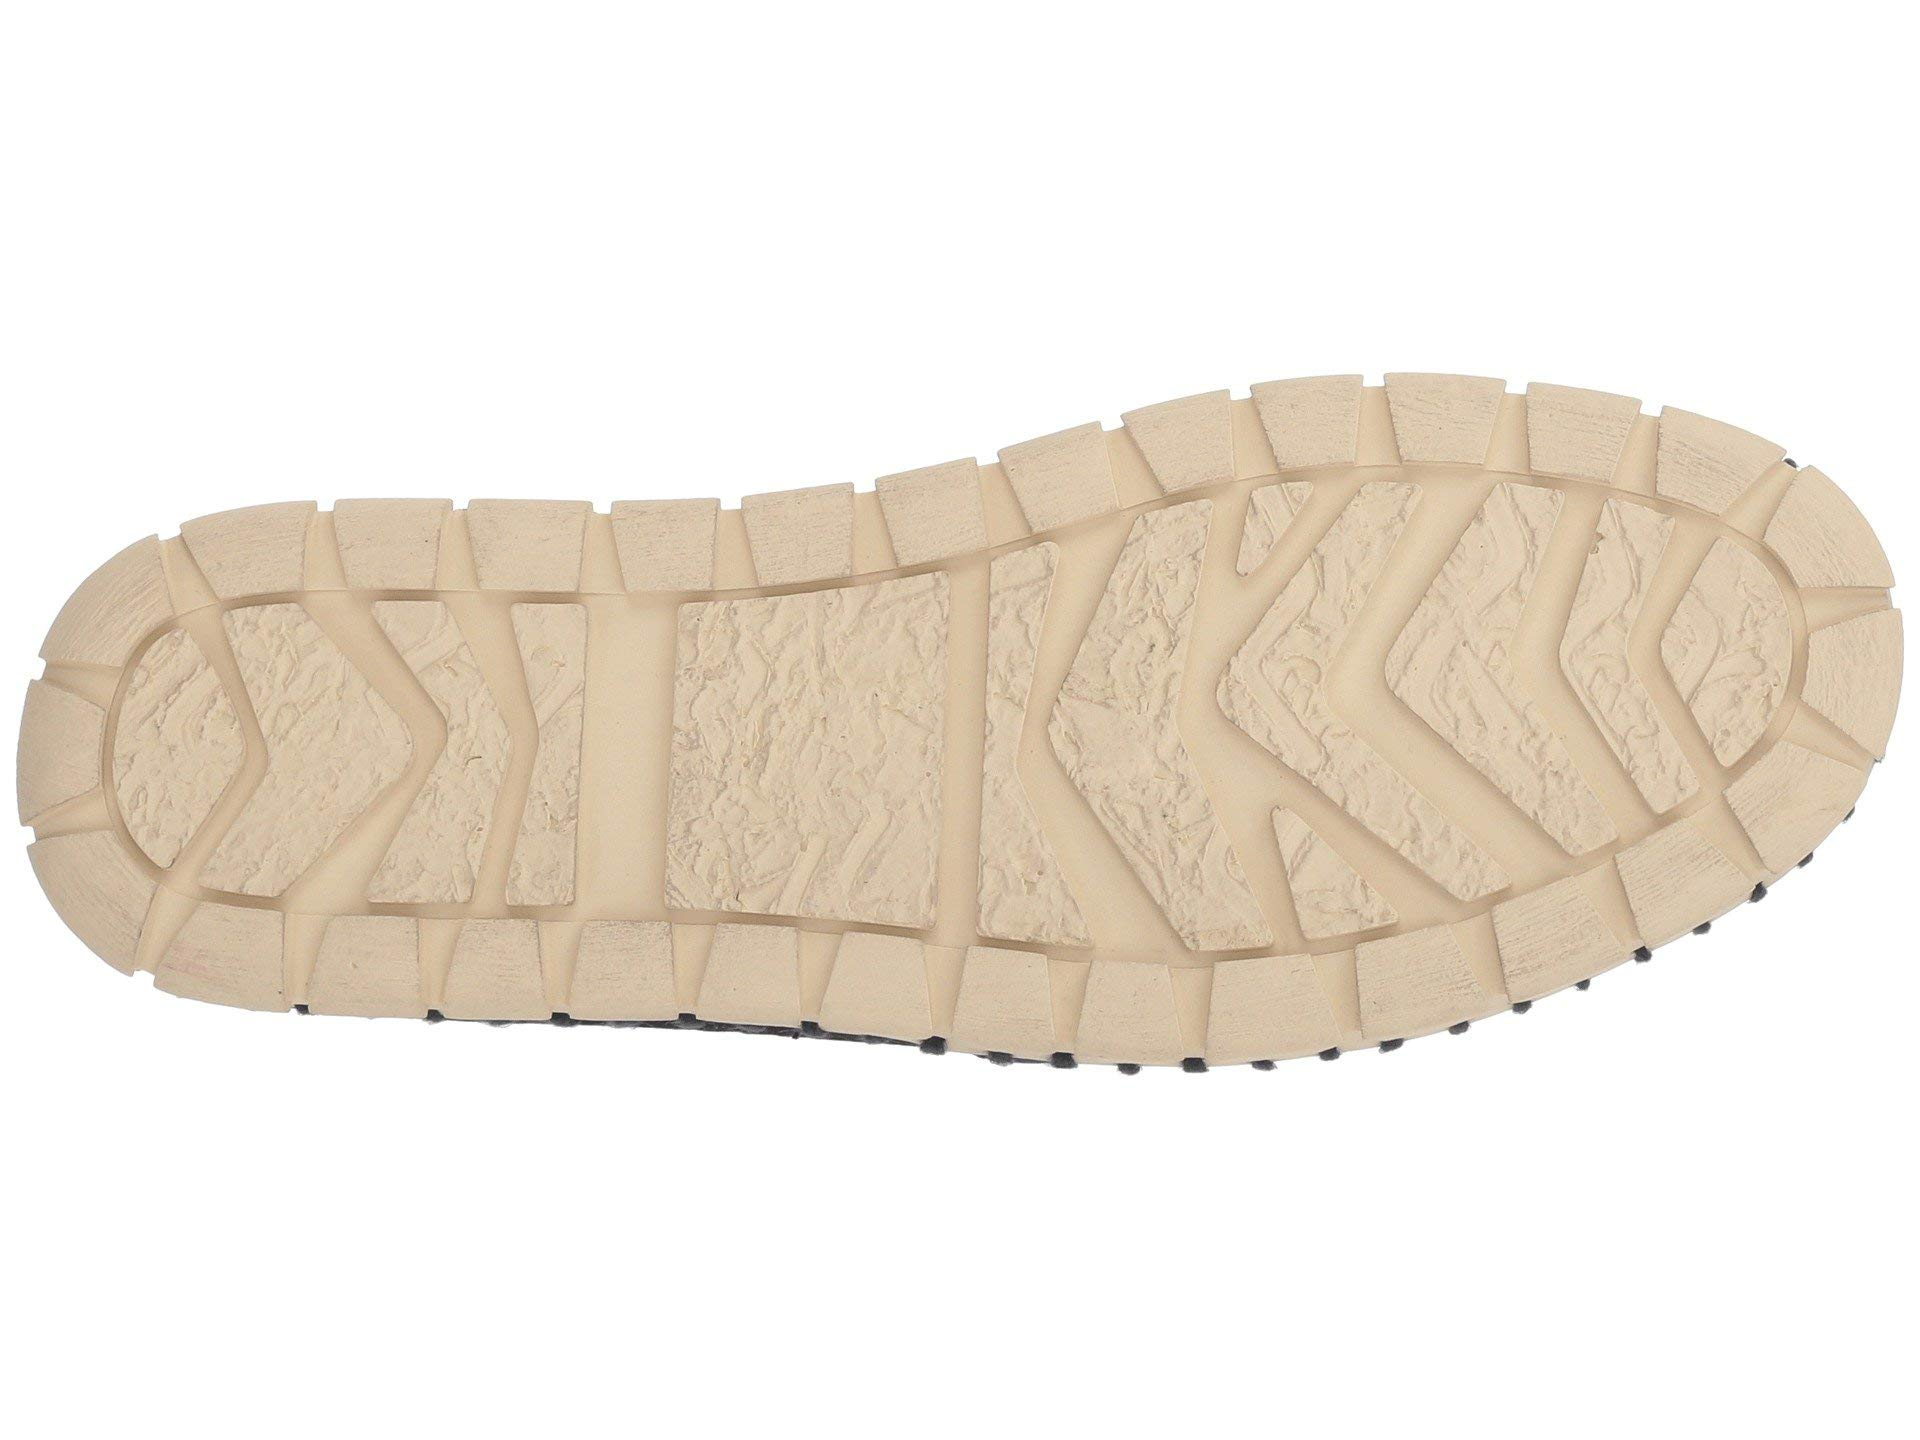chevron: (1110, 452, 1596, 1001)
triangle: (1110, 452, 1596, 1001)
